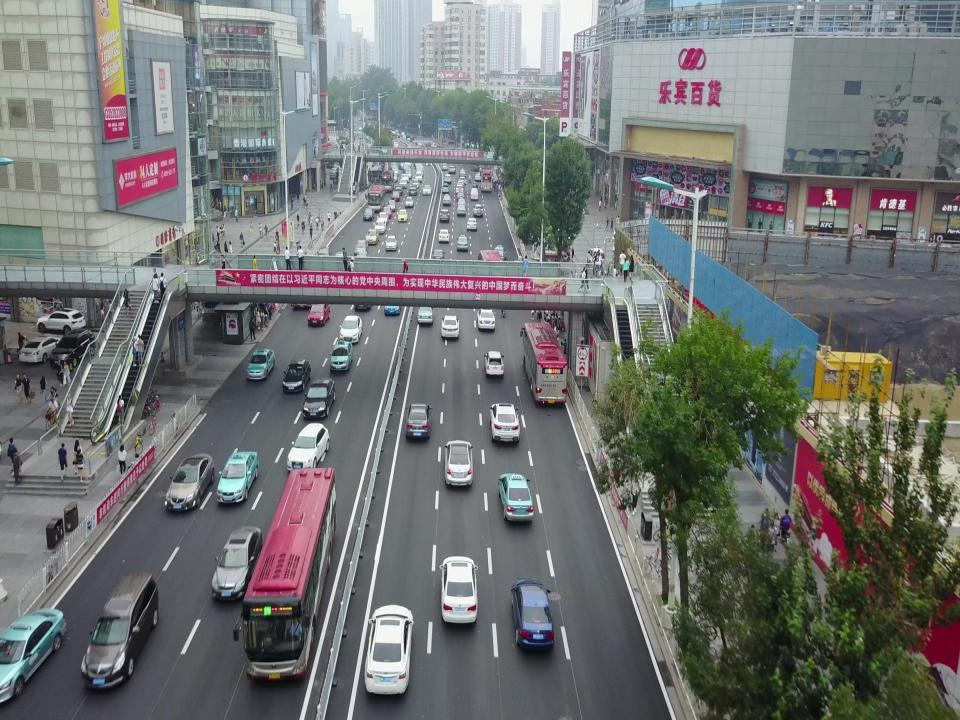bus: (237, 466, 337, 679), (520, 319, 566, 405), (291, 269, 318, 309), (477, 250, 505, 284), (368, 185, 386, 211), (380, 169, 394, 192), (481, 168, 492, 191), (415, 164, 425, 177), (443, 138, 455, 148)
car: (0, 608, 66, 704), (364, 603, 414, 695), (211, 526, 262, 599), (511, 578, 555, 654), (162, 454, 215, 511), (440, 557, 478, 623), (217, 449, 258, 502), (288, 423, 330, 470), (49, 327, 96, 369), (498, 472, 534, 522), (36, 308, 86, 335), (445, 439, 473, 486), (490, 403, 520, 445), (304, 380, 336, 418), (405, 402, 433, 442), (18, 336, 60, 362), (248, 347, 276, 380), (282, 359, 310, 391), (330, 340, 354, 372), (340, 316, 362, 344), (308, 301, 330, 326), (485, 350, 504, 378), (354, 283, 374, 309), (442, 314, 460, 339), (384, 288, 401, 314), (417, 297, 433, 324), (477, 307, 495, 330), (353, 240, 369, 256), (364, 228, 380, 244), (317, 246, 332, 261), (492, 245, 506, 261), (356, 251, 370, 267), (456, 234, 468, 251), (432, 248, 446, 262), (386, 235, 398, 251), (335, 250, 345, 267), (438, 228, 450, 242), (374, 219, 386, 233), (362, 207, 374, 221), (378, 211, 388, 226), (440, 209, 450, 222), (473, 204, 483, 217), (467, 217, 477, 230), (398, 209, 408, 222), (405, 196, 415, 208), (382, 207, 392, 218), (443, 194, 451, 206), (457, 204, 465, 215), (409, 185, 417, 196), (388, 200, 396, 211), (422, 185, 431, 194), (474, 171, 482, 181), (392, 191, 400, 201), (394, 185, 402, 195), (398, 178, 406, 188), (412, 178, 419, 189), (444, 174, 452, 183), (457, 191, 465, 200), (458, 197, 466, 206), (401, 173, 409, 182), (390, 161, 398, 170), (448, 166, 456, 174), (470, 162, 478, 170), (398, 160, 406, 168), (389, 174, 397, 182), (425, 156, 432, 165), (459, 176, 466, 185), (392, 167, 399, 176), (459, 169, 466, 177), (443, 183, 449, 192), (458, 180, 464, 189), (296, 190, 300, 202), (441, 163, 447, 170), (393, 140, 399, 147), (403, 165, 409, 172), (431, 142, 437, 148), (391, 166, 397, 172), (400, 135, 406, 140), (425, 143, 431, 148), (406, 137, 411, 142), (358, 125, 362, 131), (399, 132, 405, 136), (396, 133, 400, 138), (391, 131, 395, 135), (394, 129, 398, 133)
truck: (412, 139, 422, 147)
van: (82, 571, 158, 689), (329, 166, 339, 179), (470, 187, 478, 200), (456, 184, 464, 194), (415, 172, 423, 182), (403, 156, 411, 166), (405, 167, 411, 179), (443, 142, 447, 148)
